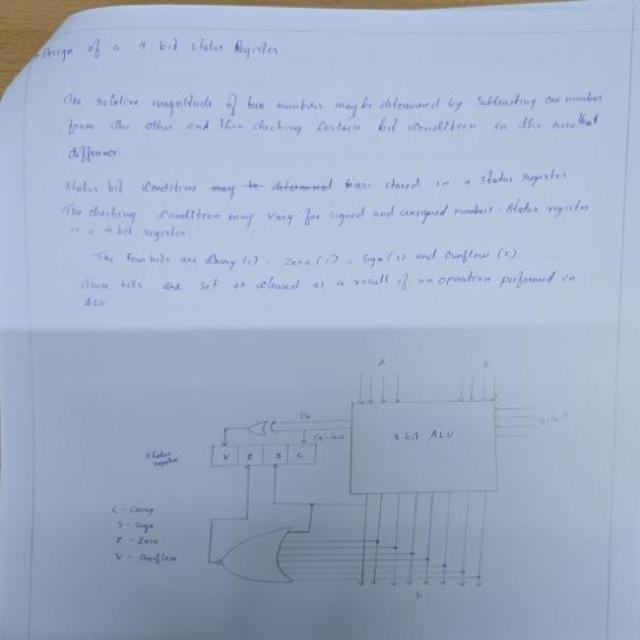Figure Detection - v3 Dataset Version2: (89, 333, 582, 602)
